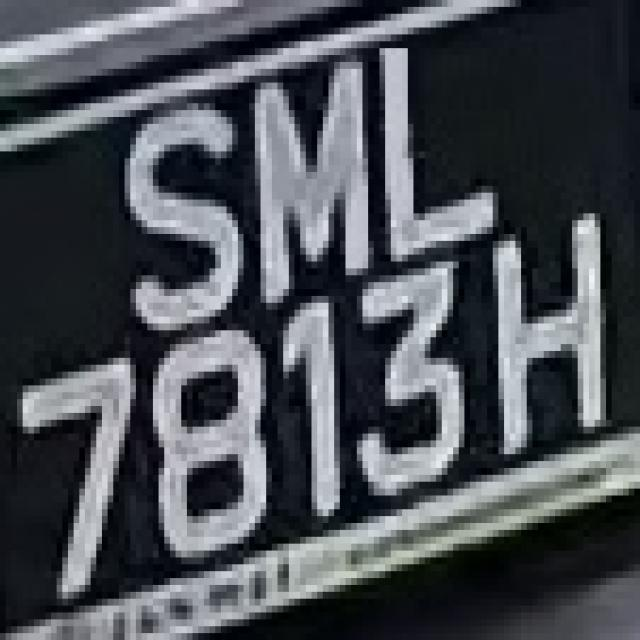1: (277, 269, 357, 516)
3: (363, 227, 487, 502)
7: (12, 351, 148, 606)
8: (130, 310, 289, 578)
H: (487, 172, 612, 461)
L: (380, 21, 504, 275)
M: (232, 55, 374, 296)
S: (96, 90, 238, 310)
